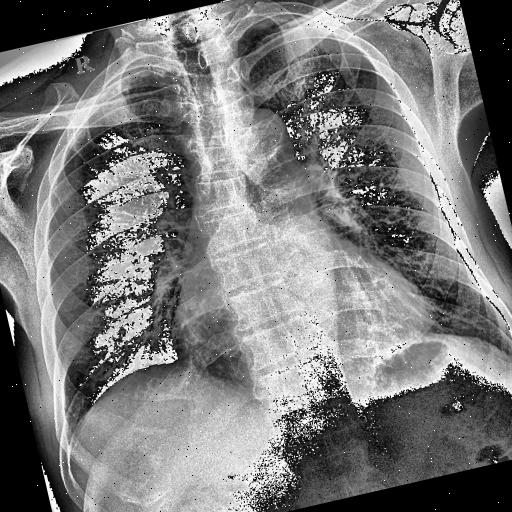2- Calcification: (250, 112, 295, 167)
3- Cardiomegaly: (144, 228, 472, 420), (161, 258, 449, 403)
5- ILD: (304, 152, 508, 381), (396, 258, 496, 353)
